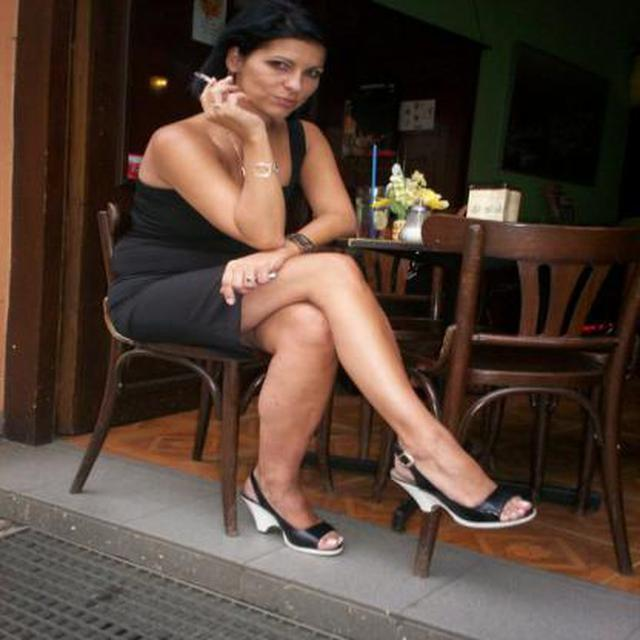smoking: (188, 71, 223, 88)
